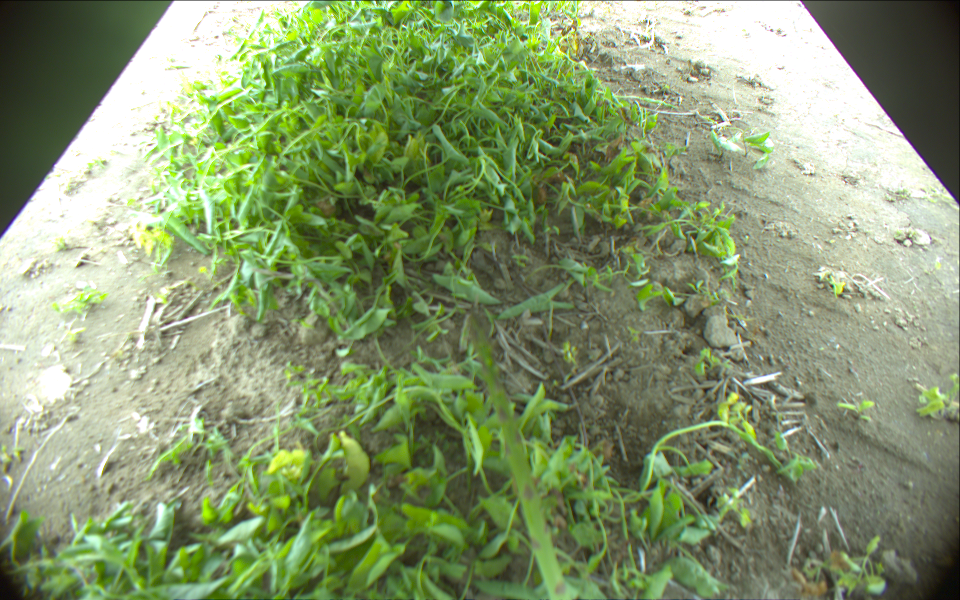aspa: (469, 313, 578, 600)
